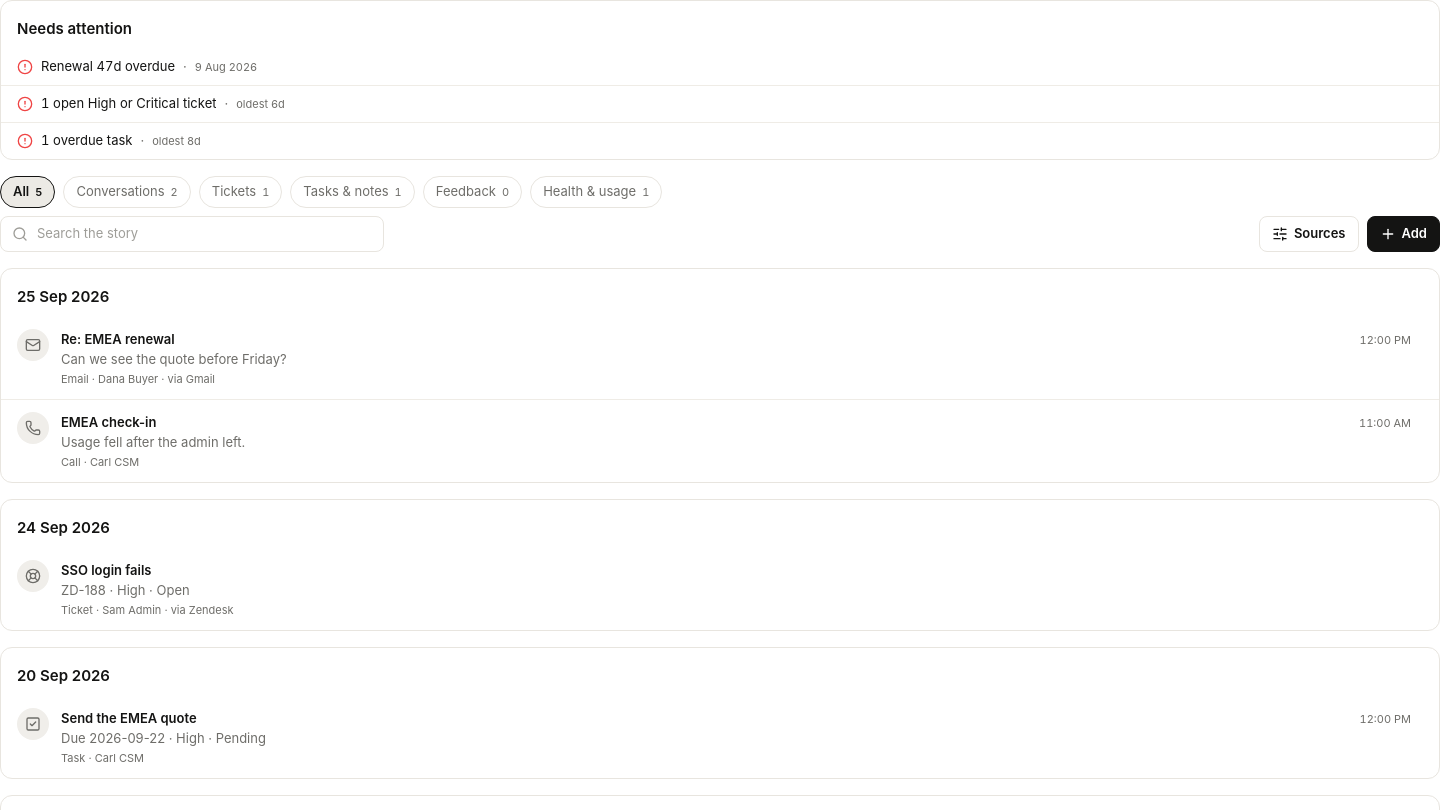
Test: the Story parts on one account › opens an email's thread from the account story
Step 1. Click the button "Re: EMEA renewal" → click(118, 339), box [61, 329, 175, 349]
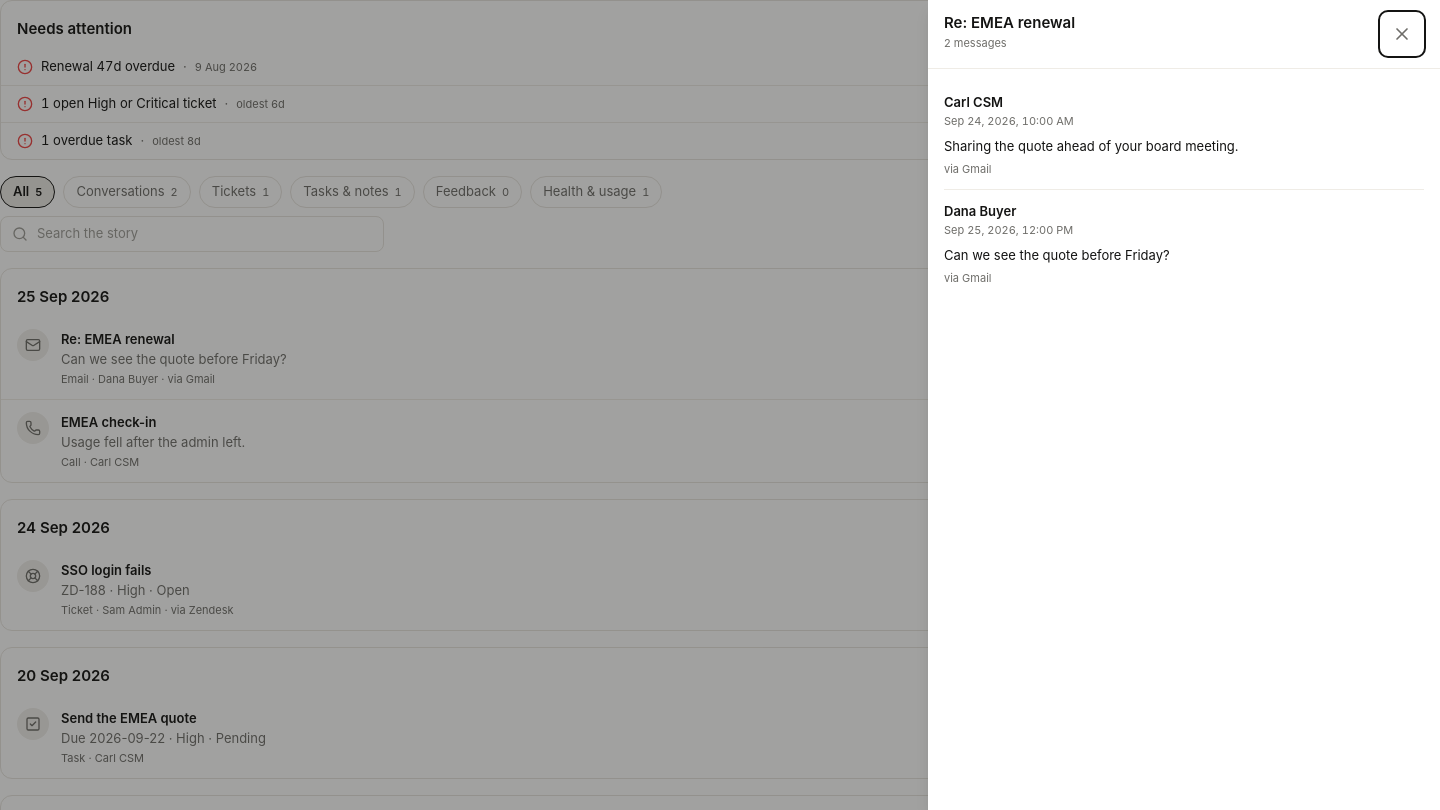
Expected: the dialog "Re: EMEA renewal" does not show "Pizza EMEA", [928, 0, 1439, 809]
Expected: the text "Sharing the quote ahead of your board meeting." is shown, [944, 138, 1239, 154]
